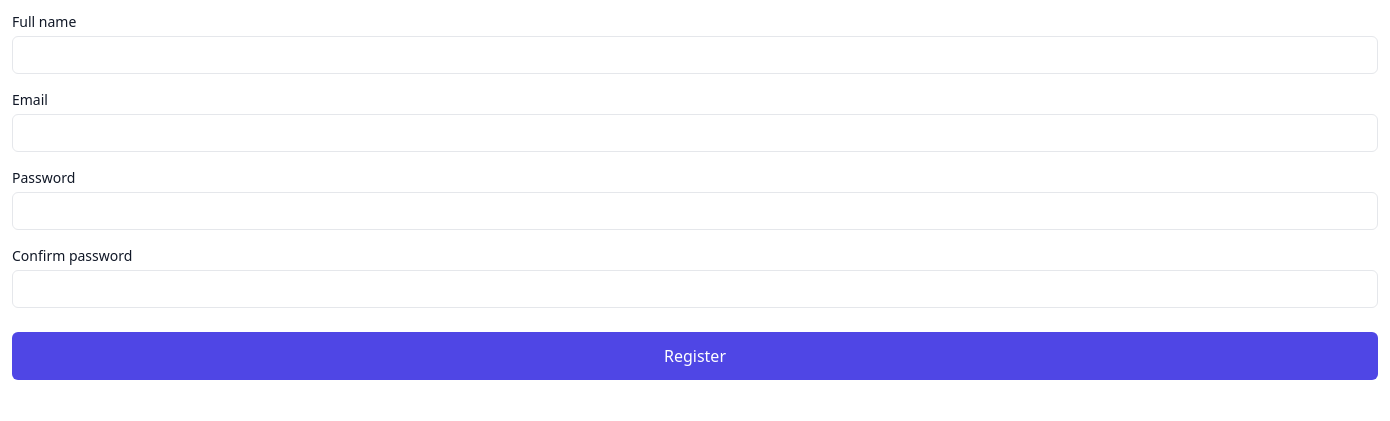
Test: RegisterForm › shows a confirm-password mismatch error on submit
Type "Jane Doe" into the field labelled "Full name" at (695, 55), box [12,36,1378,74]
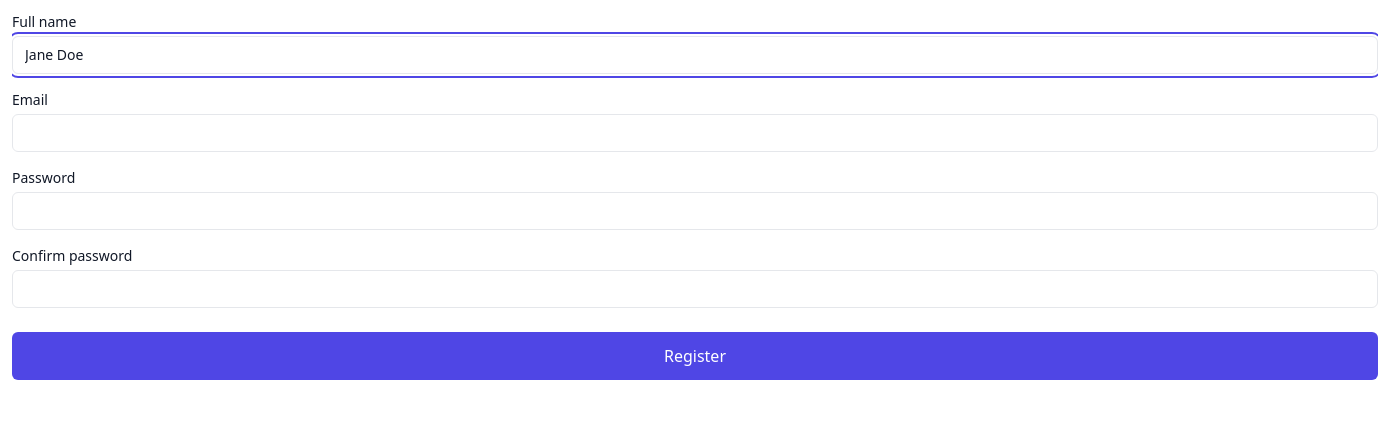
Type "jane@example.com" into the field labelled "Email" at (695, 133), box [12,114,1378,152]
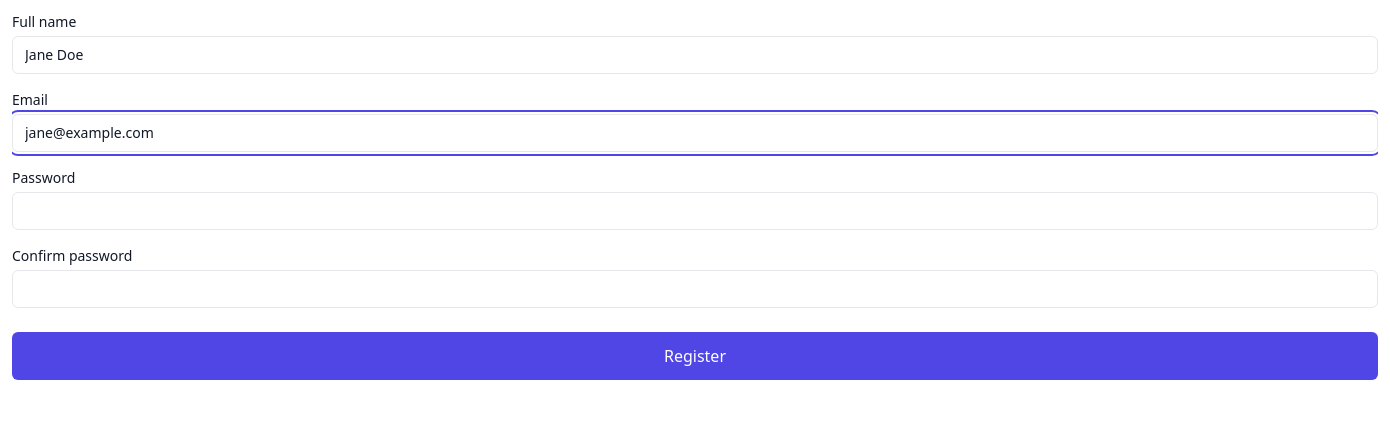
Type "secret123" into the password field labelled "Password" at (695, 211), box [12,192,1378,230]
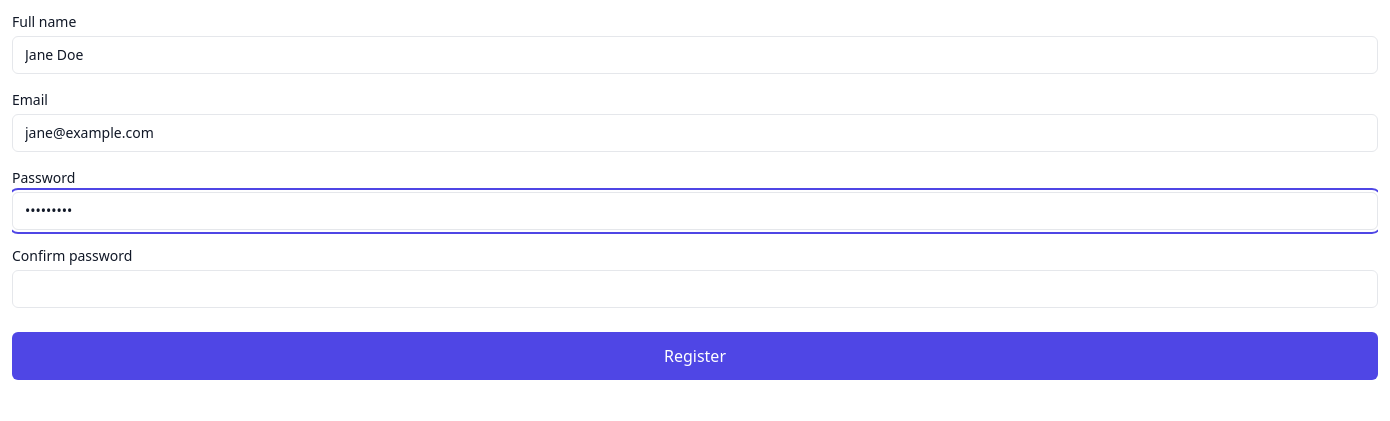
Type "different456" into the password field labelled "Confirm password" at (695, 289), box [12,270,1378,308]
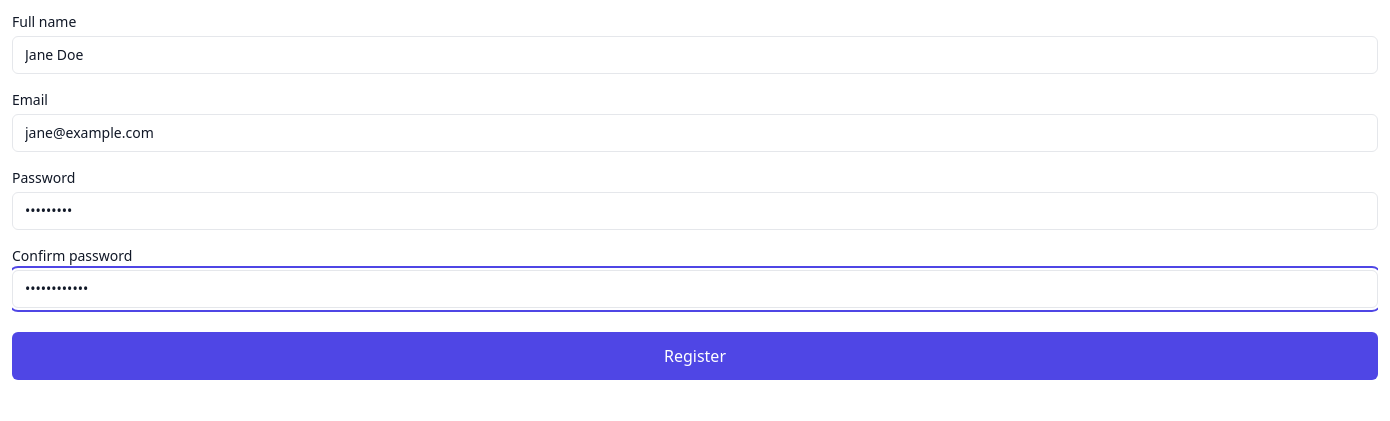
Click the button "Register" at (695, 356), box [12,332,1378,380]
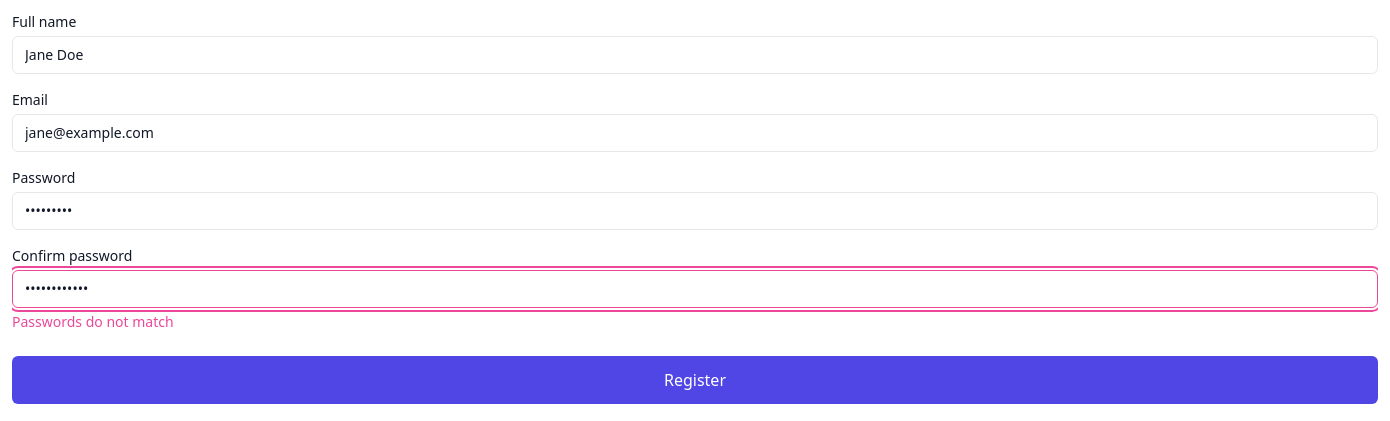
Check: the text "Passwords do not match" is shown, box [12,312,174,331]
